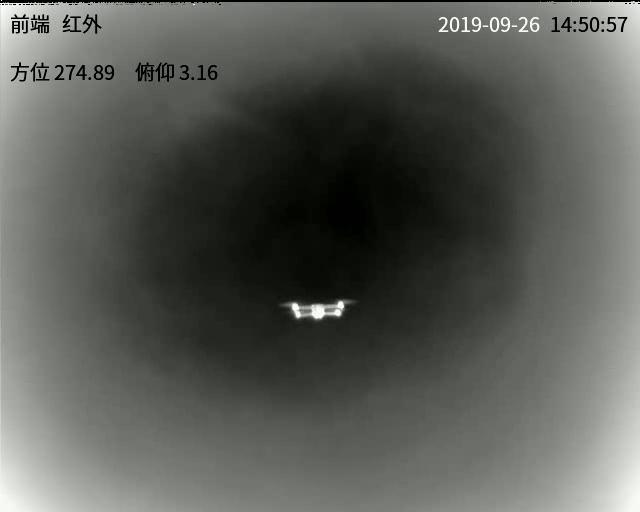DRONE: (283, 298, 348, 319)
